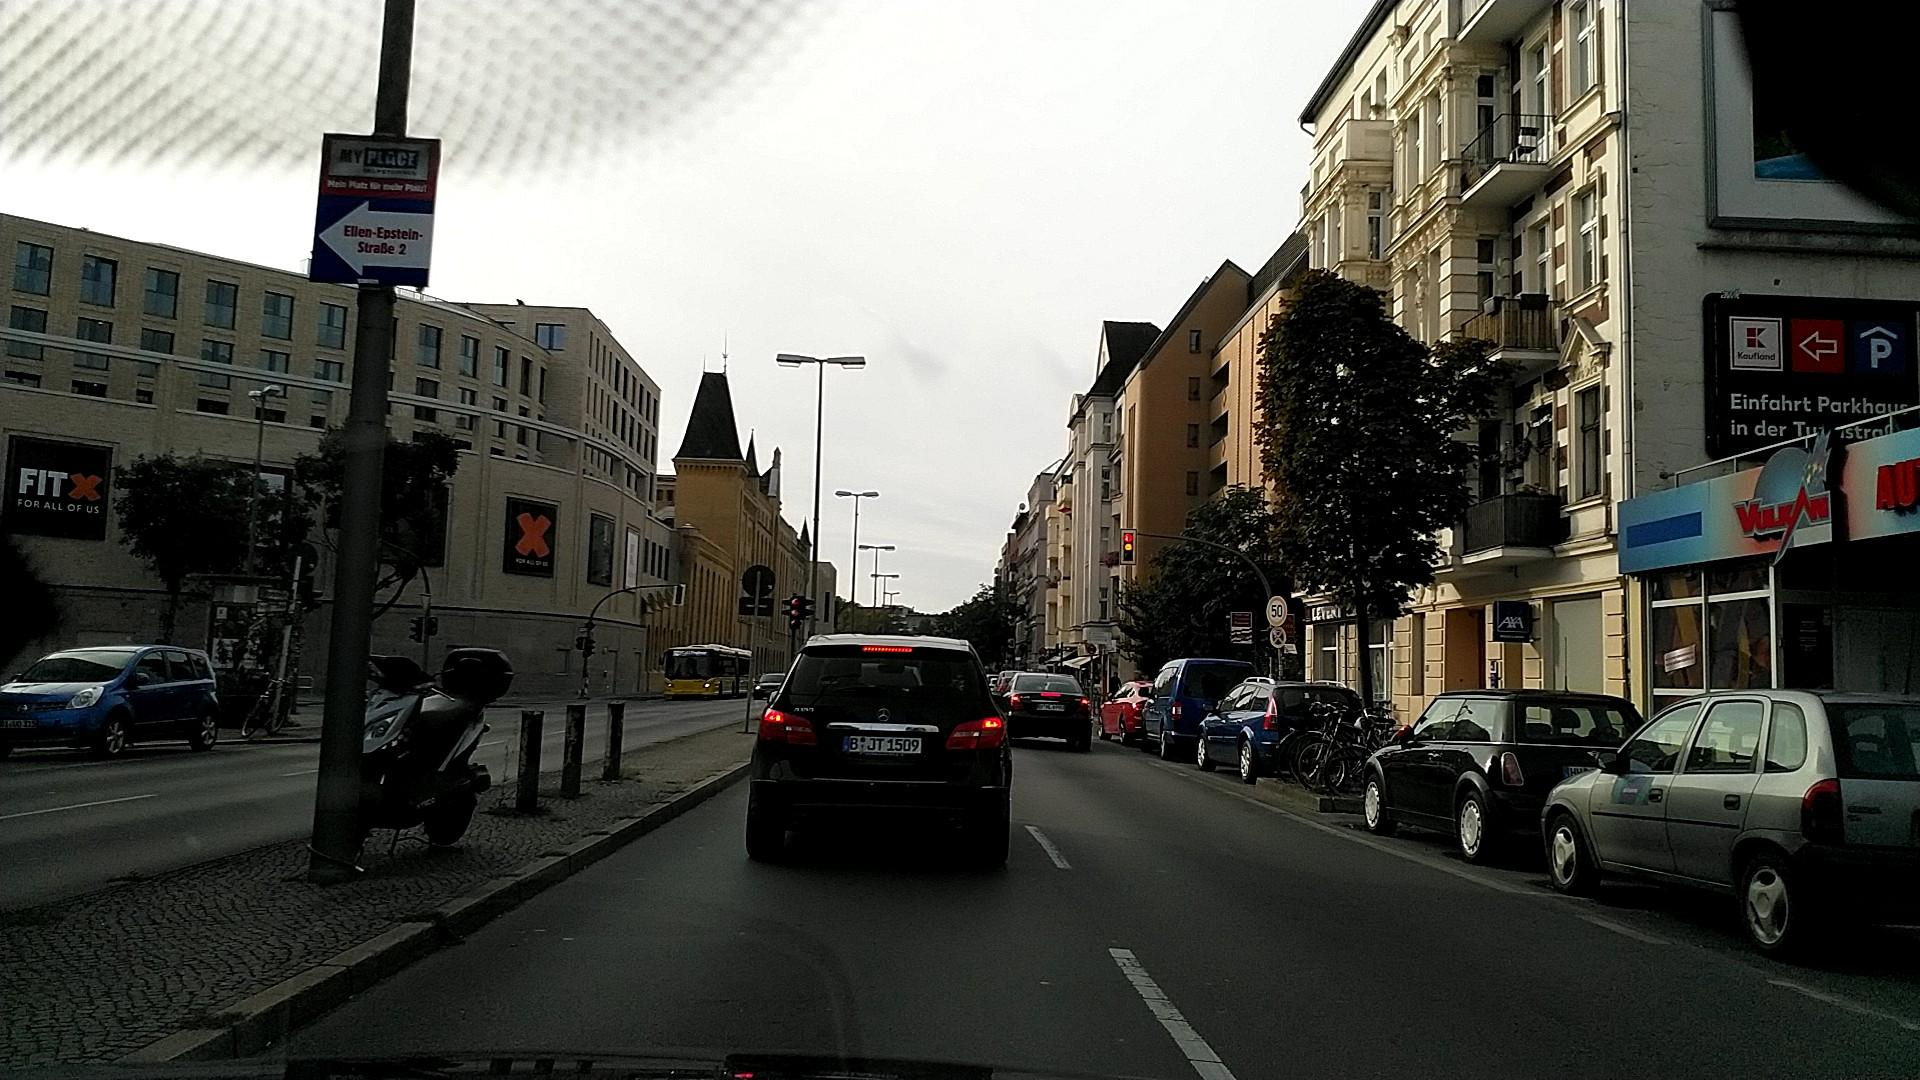Vehicle registration plate: (842, 731, 922, 757), (1, 719, 38, 729), (1034, 703, 1065, 711)
